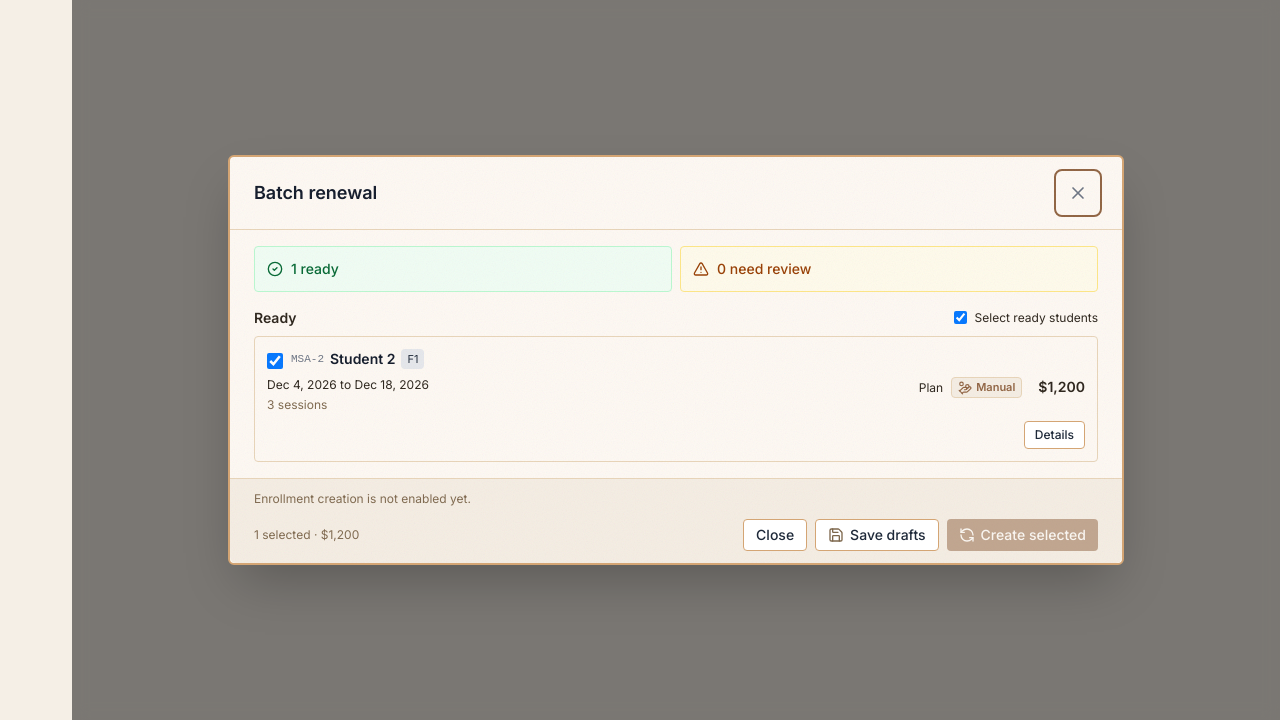
Scenario: batch renewal comparison › allows optional draft saving while enrollment creation is disabled
The image size is (1280, 720).
Expected: the dialog is shown, [228,155,1124,565]
Expected: the text "Enrollment creation is not enabled yet." is shown, [254,491,471,506]
Click the button "Save drafts" at (877, 535), box [815,519,939,551]
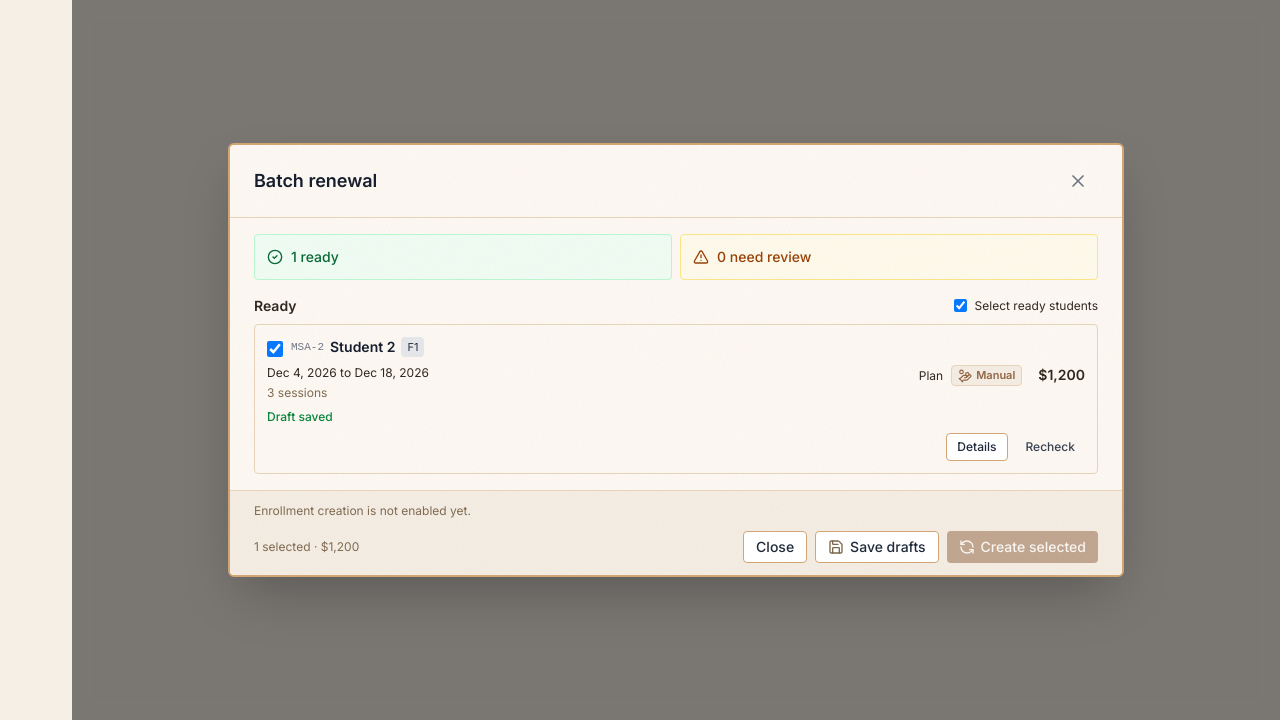
Result: the text "Draft saved" is shown at [267,409,333,424]
